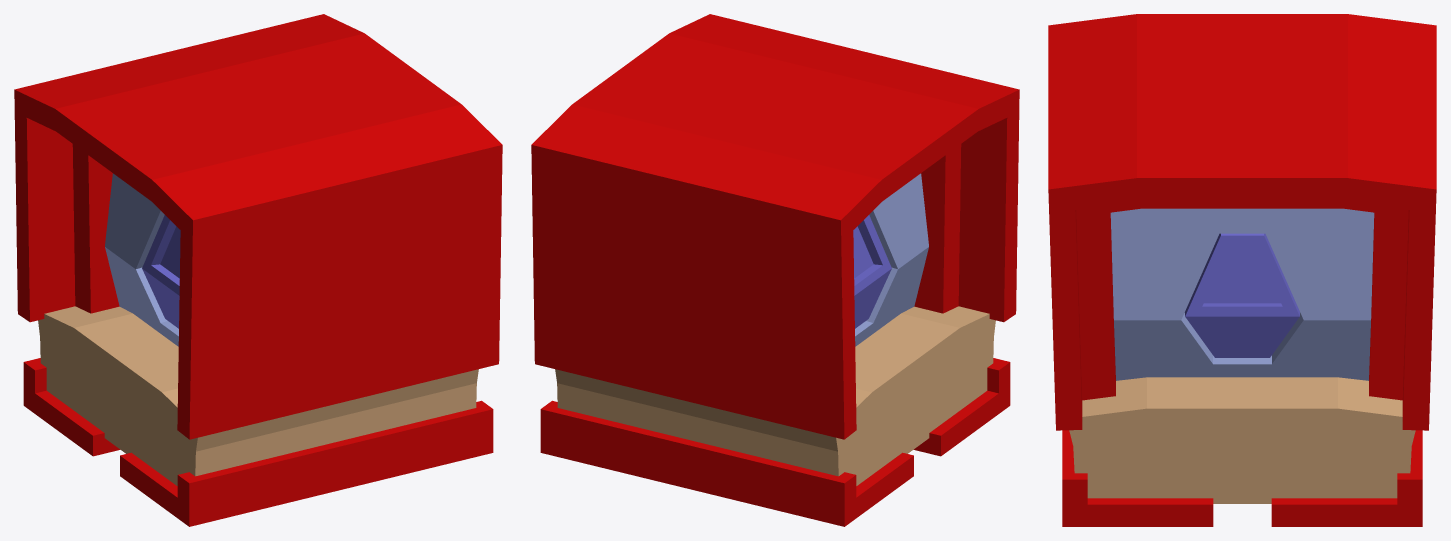
Rendered from dreamCube.fbx.
3 views of the same model, side by side, from view 1: azimuth 30°, elevation 25°; view 2: azimuth 150°, elevation 25°; view 3: azimuth 270°, elevation 25° (orthographic). The views are drawn at different scales.
Visible parts, largest first — view 1: dreamCubeLow; view 2: dreamCubeLow; view 3: dreamCubeLow.
Boxes of the visible parts, x1=… form: dreamCubeLow: x1=14, y1=14, x2=502, y2=526; dreamCubeLow: x1=531, y1=14, x2=1019, y2=526; dreamCubeLow: x1=1048, y1=14, x2=1436, y2=526.
Size of the model in its own units: 200 by 199 by 200.
